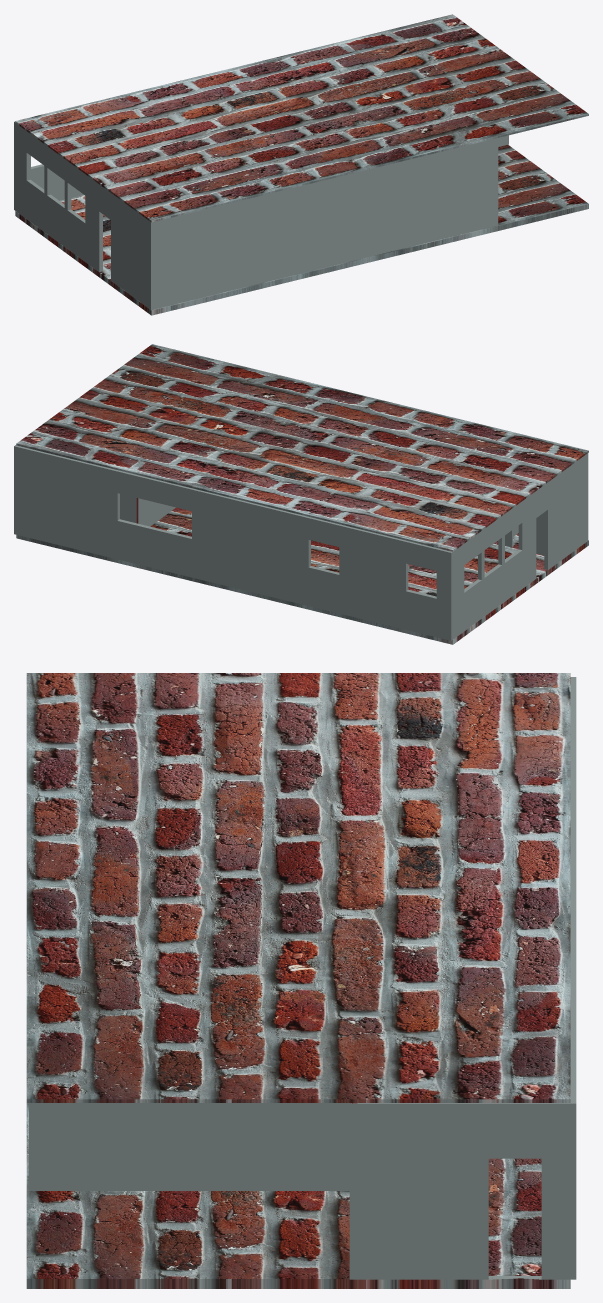
Rendered from floorplan.glb.
3 renders of one model, top to bottom at view 1: azimuth 30°, elevation 25°; view 2: azimuth 150°, elevation 25°; view 3: azimuth 270°, elevation 25°, orthographic. The views are drawn at different scales.
Parts seen in each view (by area): view 1: Plane.002, Plane; view 2: Plane.002, Plane; view 3: Plane.002, Plane.
Part boxes in pixels (x1=…): Plane.002: x1=15, y1=14, x2=588, y2=315; Plane: x1=14, y1=121, x2=508, y2=309; Plane.002: x1=16, y1=344, x2=588, y2=644; Plane: x1=14, y1=445, x2=588, y2=640; Plane.002: x1=26, y1=673, x2=570, y2=1288; Plane: x1=29, y1=677, x2=576, y2=1279.
Size of the model in its own units: 17.69 by 3.66 by 9.62.
4 materials, 4 textured.
